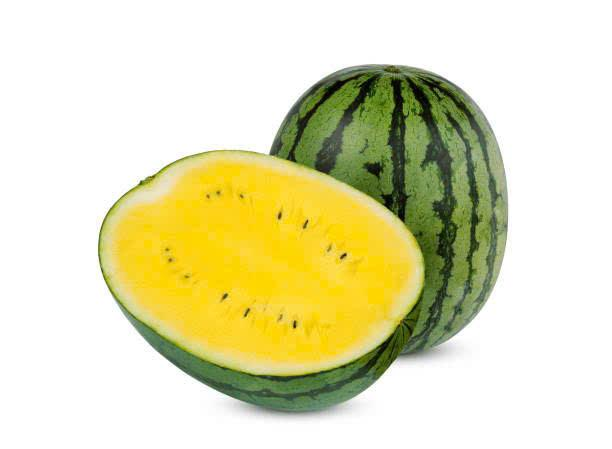watermelon: (93, 144, 420, 415), (397, 40, 507, 372), (272, 60, 518, 180)
